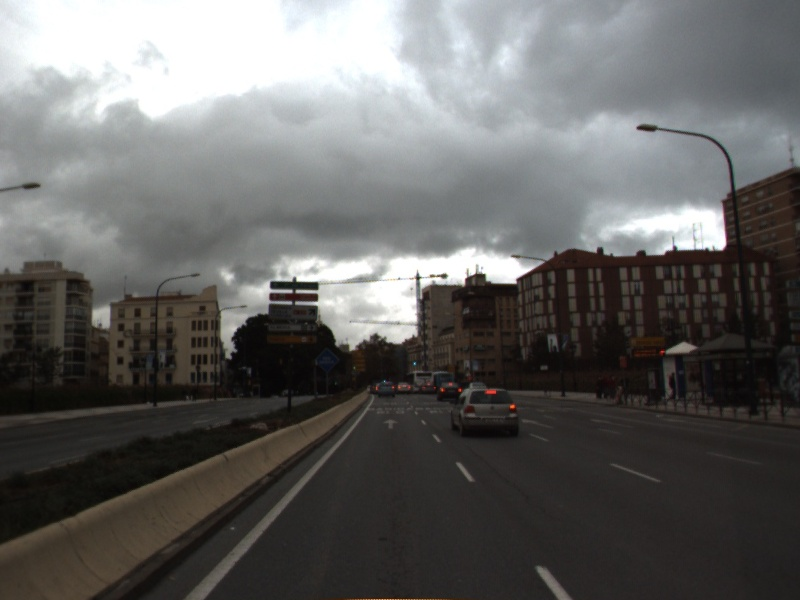STRAIGHT: (587, 416, 638, 431), (519, 416, 557, 431), (381, 417, 401, 431)
